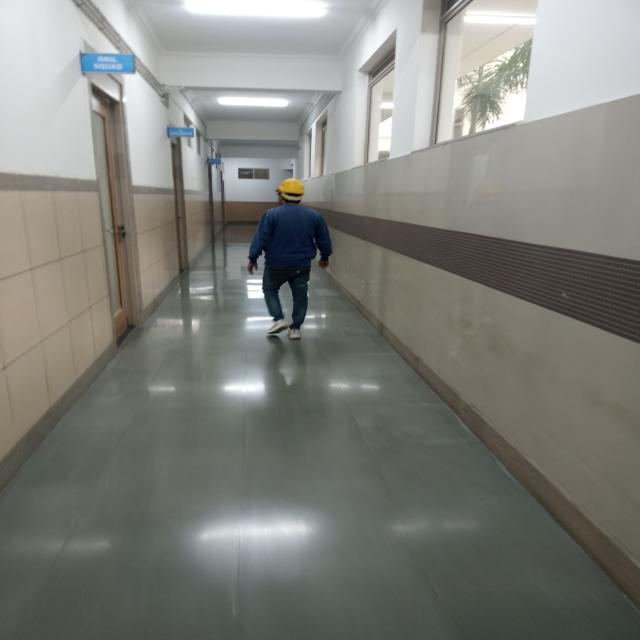no jacket: (245, 175, 339, 343)
